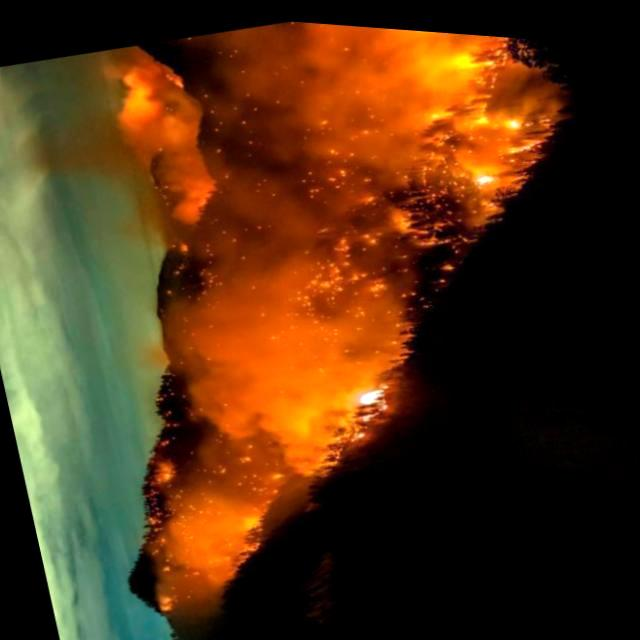fire: (136, 195, 364, 498), (109, 349, 323, 617), (129, 7, 389, 221), (378, 22, 566, 238), (312, 174, 428, 348), (343, 346, 419, 430)
